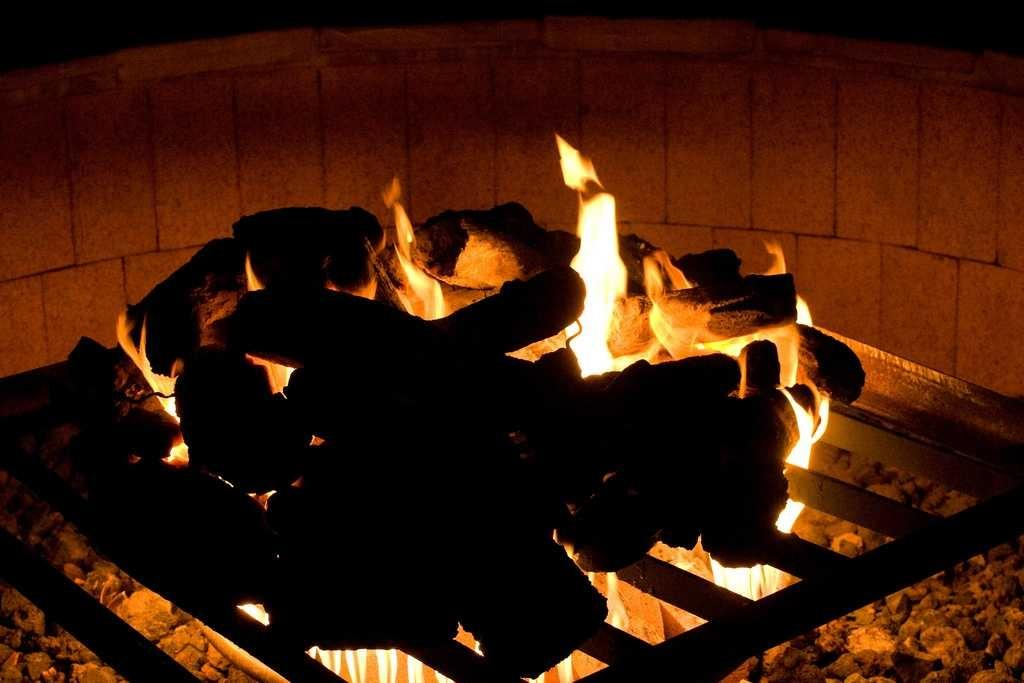fire: (540, 125, 646, 385), (763, 300, 844, 521)
